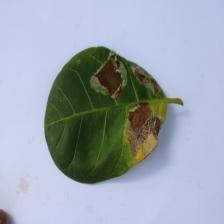leaf miner: (124, 102, 162, 155), (92, 53, 125, 98), (132, 62, 162, 99)
